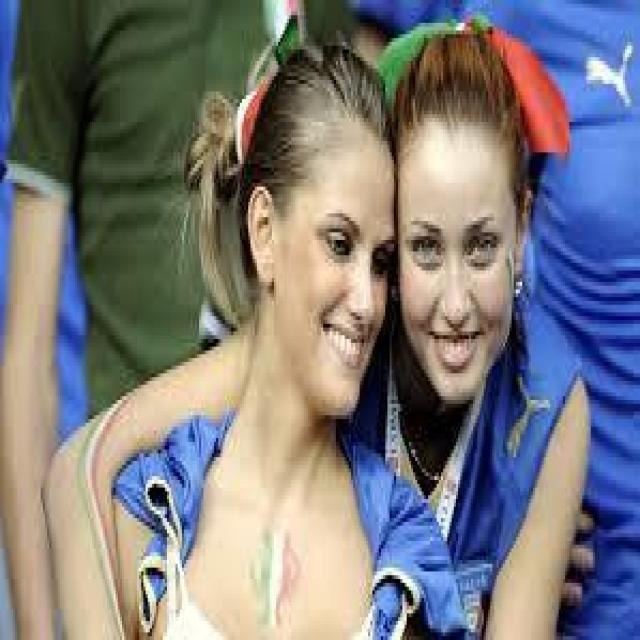person: (77, 53, 435, 632), (302, 15, 591, 636)
